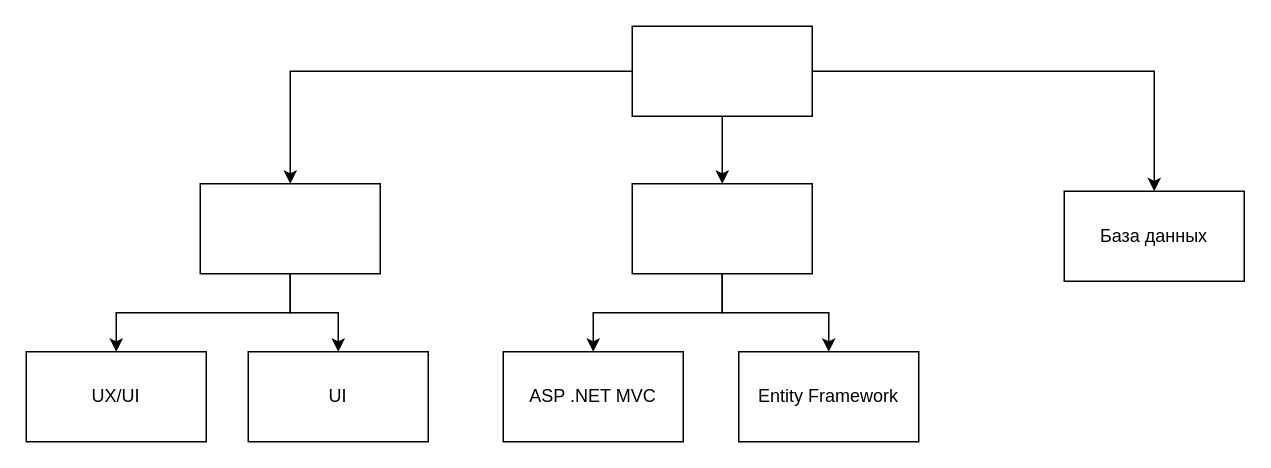
Image size: 1271x468. Some labels were removed from this diagram. Here are the shapes that lost their labels. From the top down, the box of each, then its label:
(631, 25, 812, 116): Система
(199, 182, 380, 274): Фронтенд
(631, 182, 812, 274): Бэкенд
